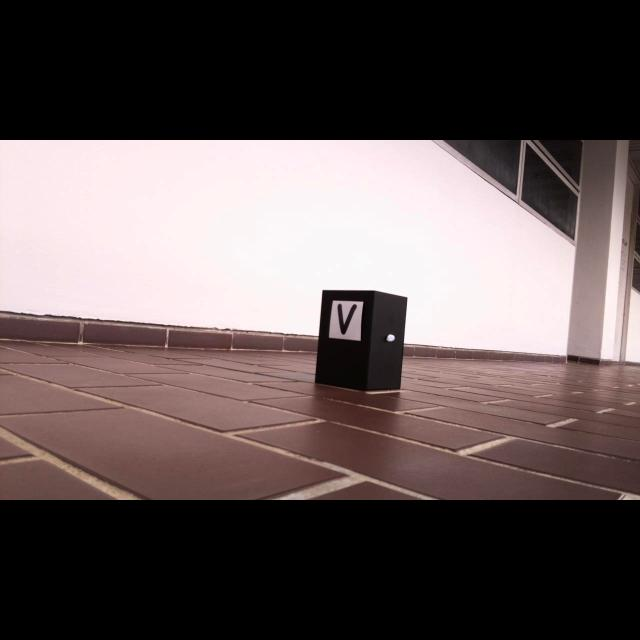V: (338, 304, 357, 335)
